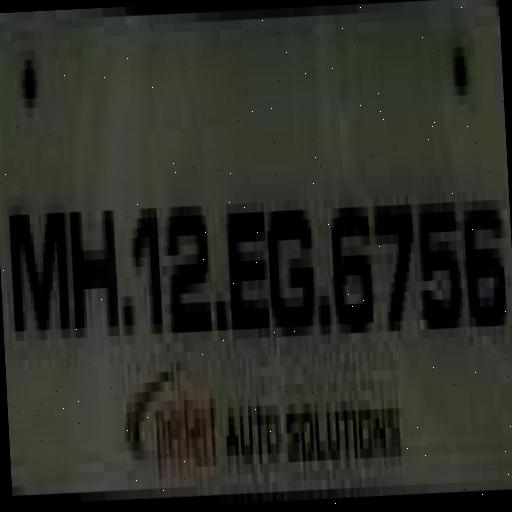number plate: (0, 7, 495, 495)
